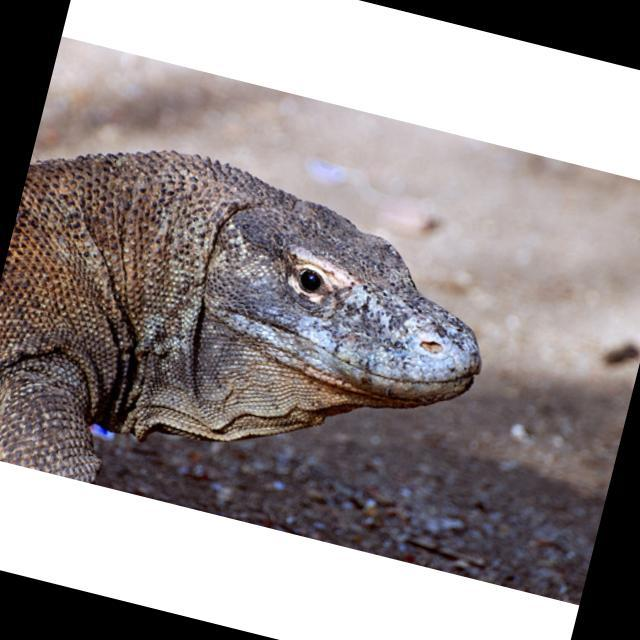KomodoDragon: (0, 113, 515, 565)
